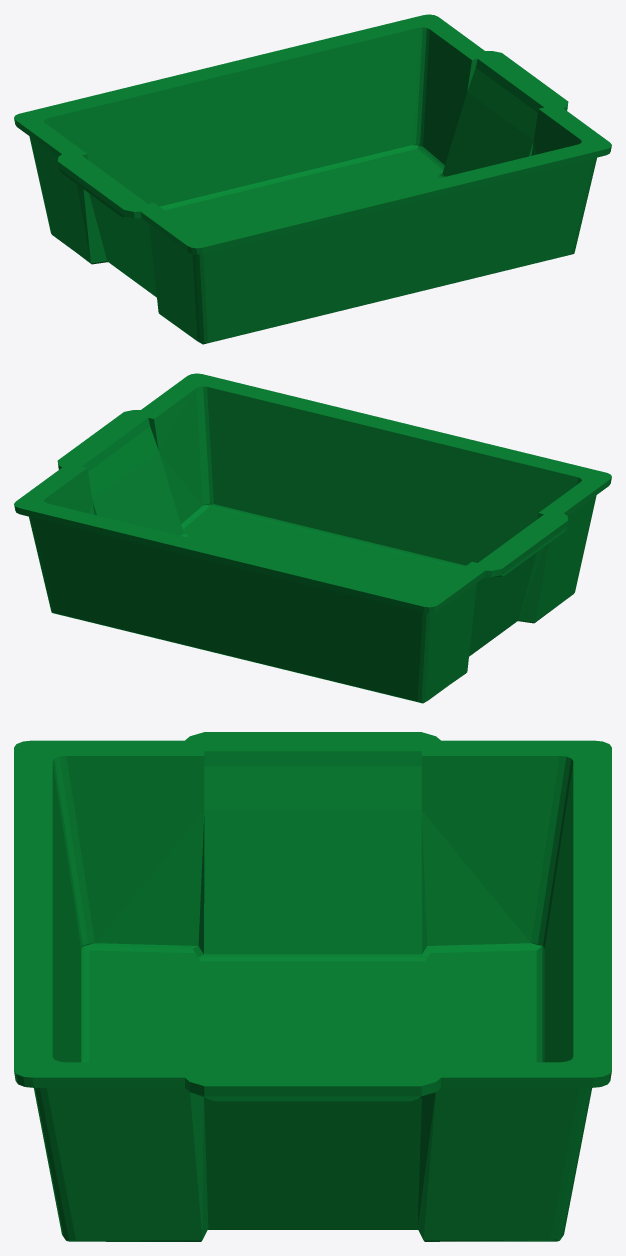
The model's file is screw_bin.dae.
3 views of the same model, one above another, from view 1: azimuth 30°, elevation 25°; view 2: azimuth 150°, elevation 25°; view 3: azimuth 270°, elevation 25° (orthographic). The views are drawn at different scales.
Visible parts, largest first — view 1: Screw_Bin; view 2: Screw_Bin; view 3: Screw_Bin.
Boxes of the visible parts, <box> form: Screw_Bin: <box>14,14,611,344</box>; Screw_Bin: <box>14,373,611,703</box>; Screw_Bin: <box>14,732,611,1241</box>.
Size of the model in its own units: 0.5588 by 0.3988 by 0.1372.
